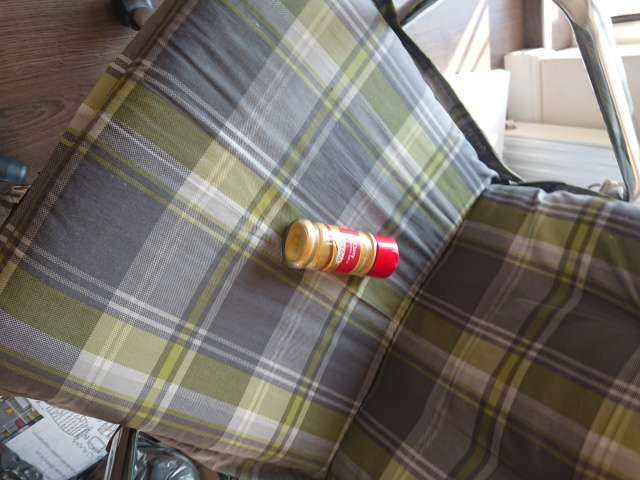Kotanyi Curry Spices Mix 70g: (280, 217, 402, 282)
